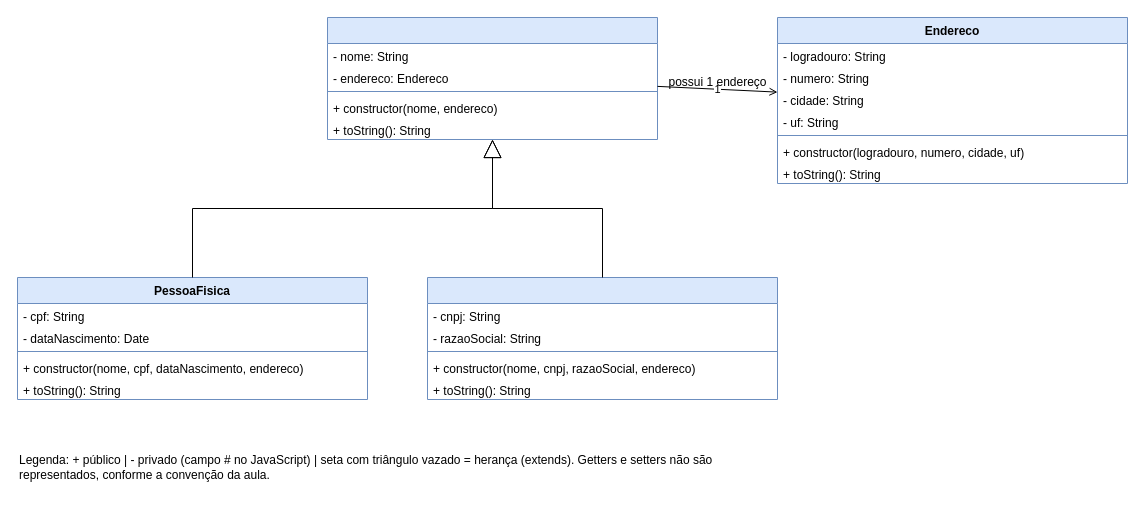
This 1145x505 diagram has some shape labels left out. The box of each missing label's shape, as (x1, y1, x2, y2) in pixels:
Pessoa: (326, 16, 658, 140)
PessoaJuridica: (426, 276, 778, 400)
